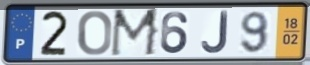2: (39, 10, 69, 57)
6: (160, 10, 190, 55)
9: (238, 9, 274, 55)
J: (200, 10, 230, 55)
M: (108, 7, 162, 59)
O: (76, 9, 113, 57)
